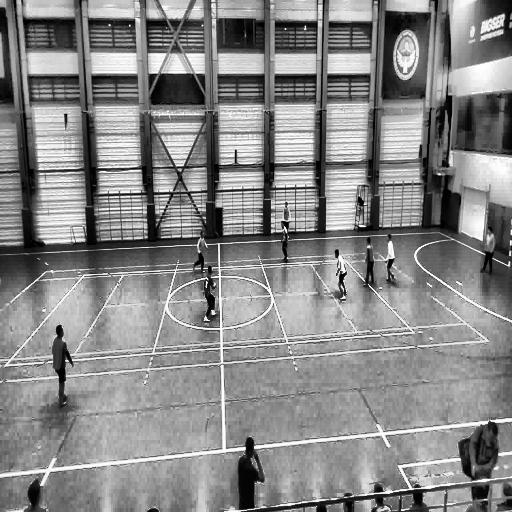player: (236, 437, 263, 508), (52, 324, 74, 407), (204, 264, 217, 322), (479, 226, 495, 273), (335, 247, 347, 298), (194, 230, 208, 272), (364, 237, 375, 286), (385, 233, 395, 283), (282, 200, 292, 239), (281, 215, 289, 263)
